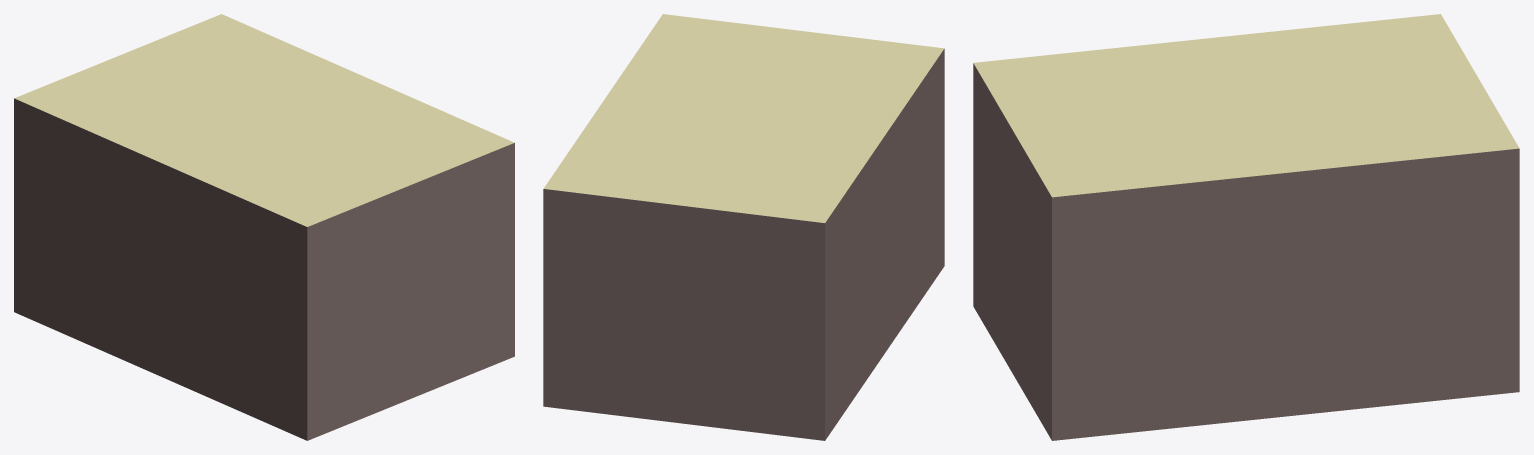
File: baralho.fbx
The picture shows the model from 3 angles, left to right: view 1: azimuth 30°, elevation 25°; view 2: azimuth 150°, elevation 25°; view 3: azimuth 270°, elevation 25°; orthographic projection. The views are drawn at different scales.
Visible parts, largest first — view 1: baralho; view 2: baralho; view 3: baralho.
Boxes of the visible parts, bbox=[...] form: baralho: bbox=[14, 14, 514, 440]; baralho: bbox=[543, 14, 944, 440]; baralho: bbox=[973, 14, 1519, 440].
Bounding box in the file's own units: 8.84 × 5.47 × 11.12.
